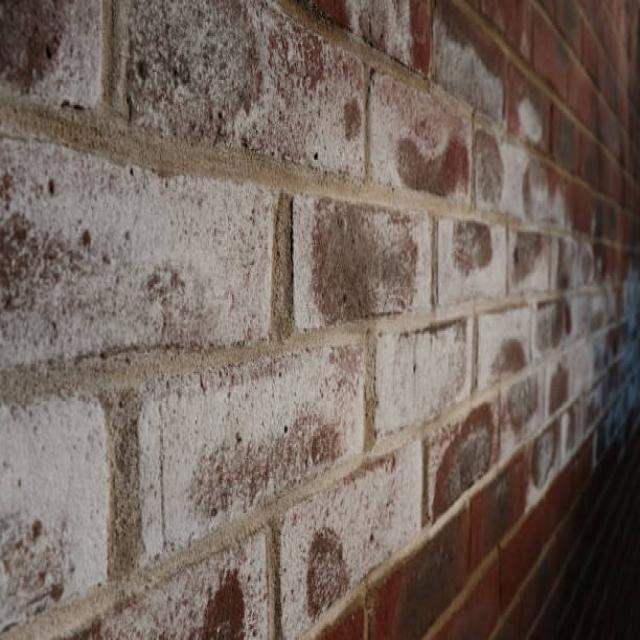efflorescence: (2, 0, 639, 639)
